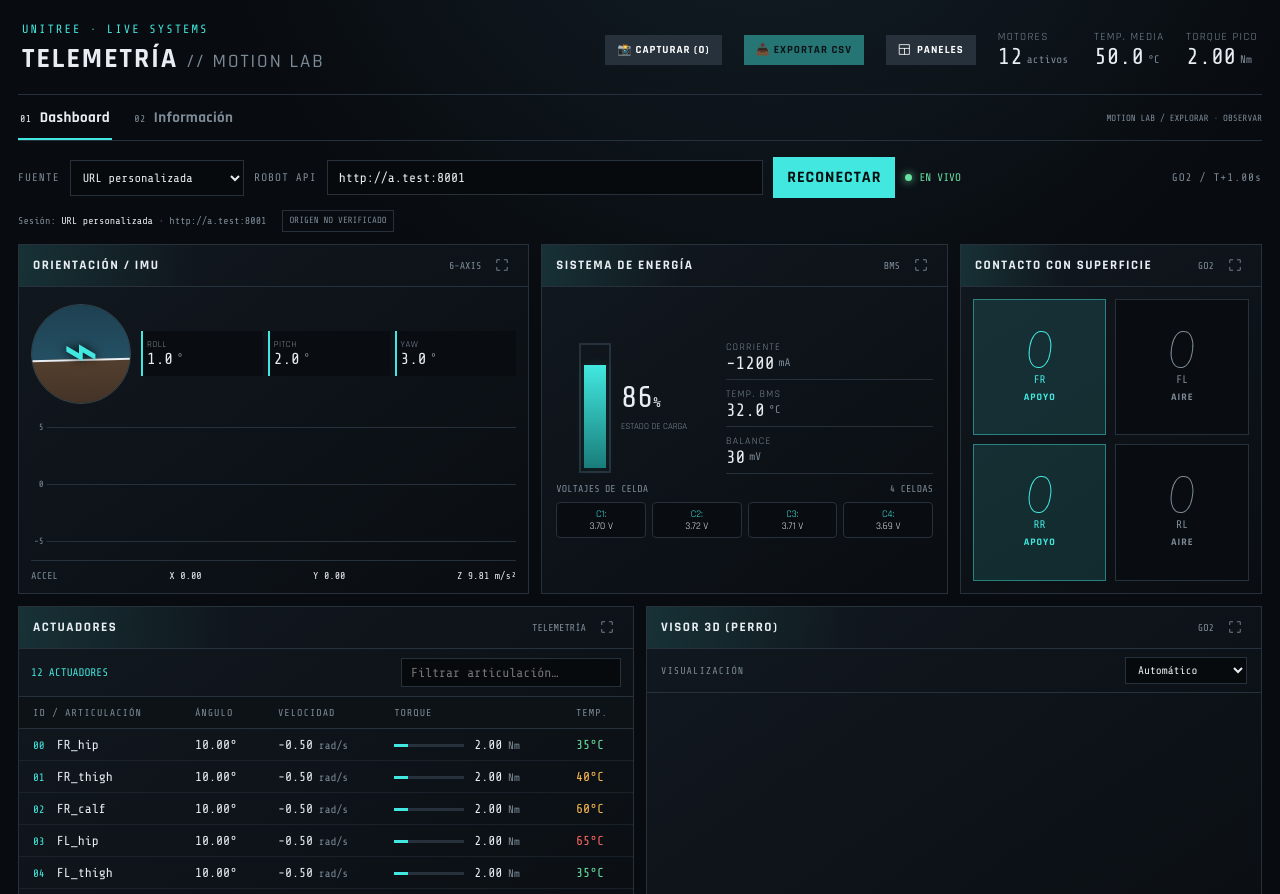
local demo addresses require an explicit choice and do not claim physical data
Select "G1 / Humanoide" in the dropdown named "Fuente de telemetría" at (157, 178), box x1=70 y1=160 x2=244 y2=196
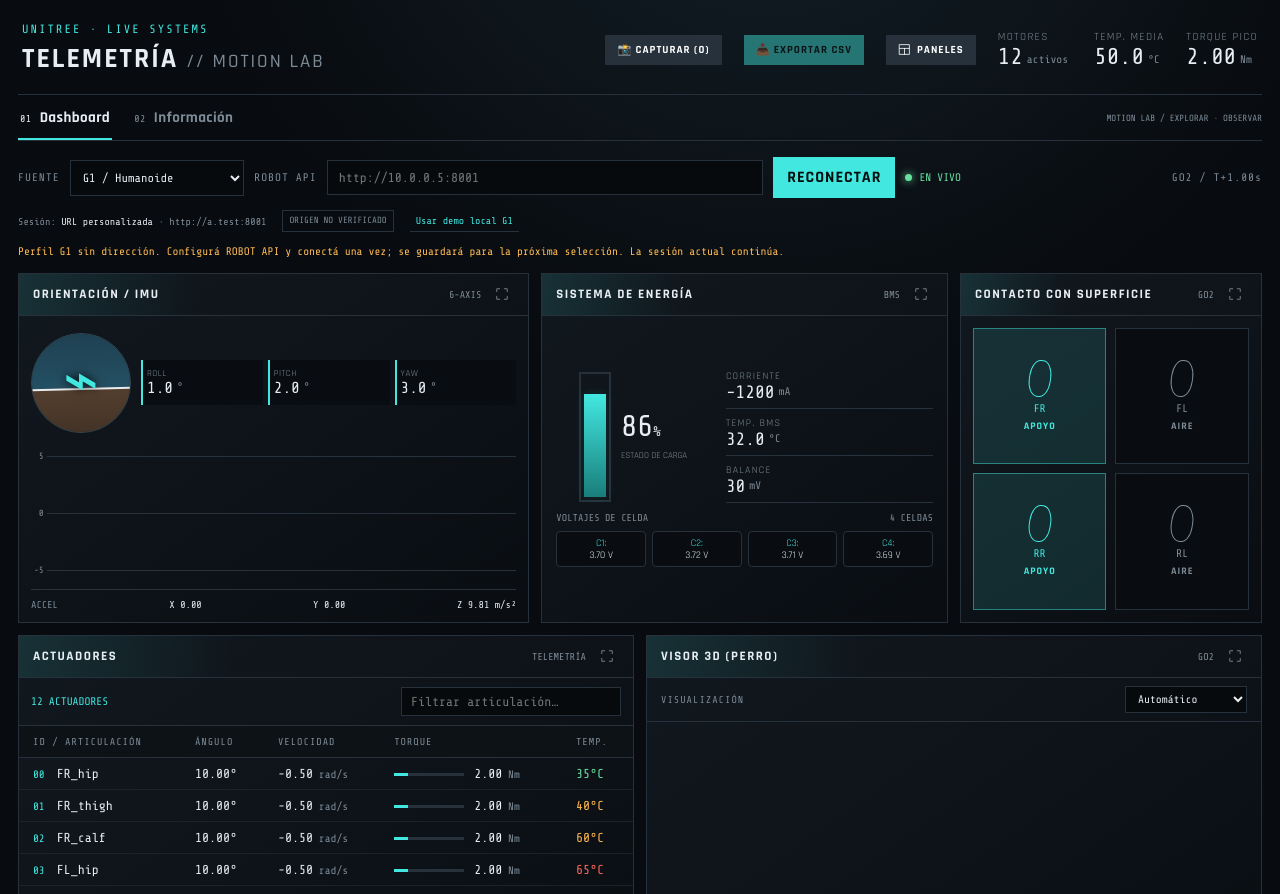
Click the button "Usar demo local G1" at (464, 221), box x1=410 y1=210 x2=519 y2=232
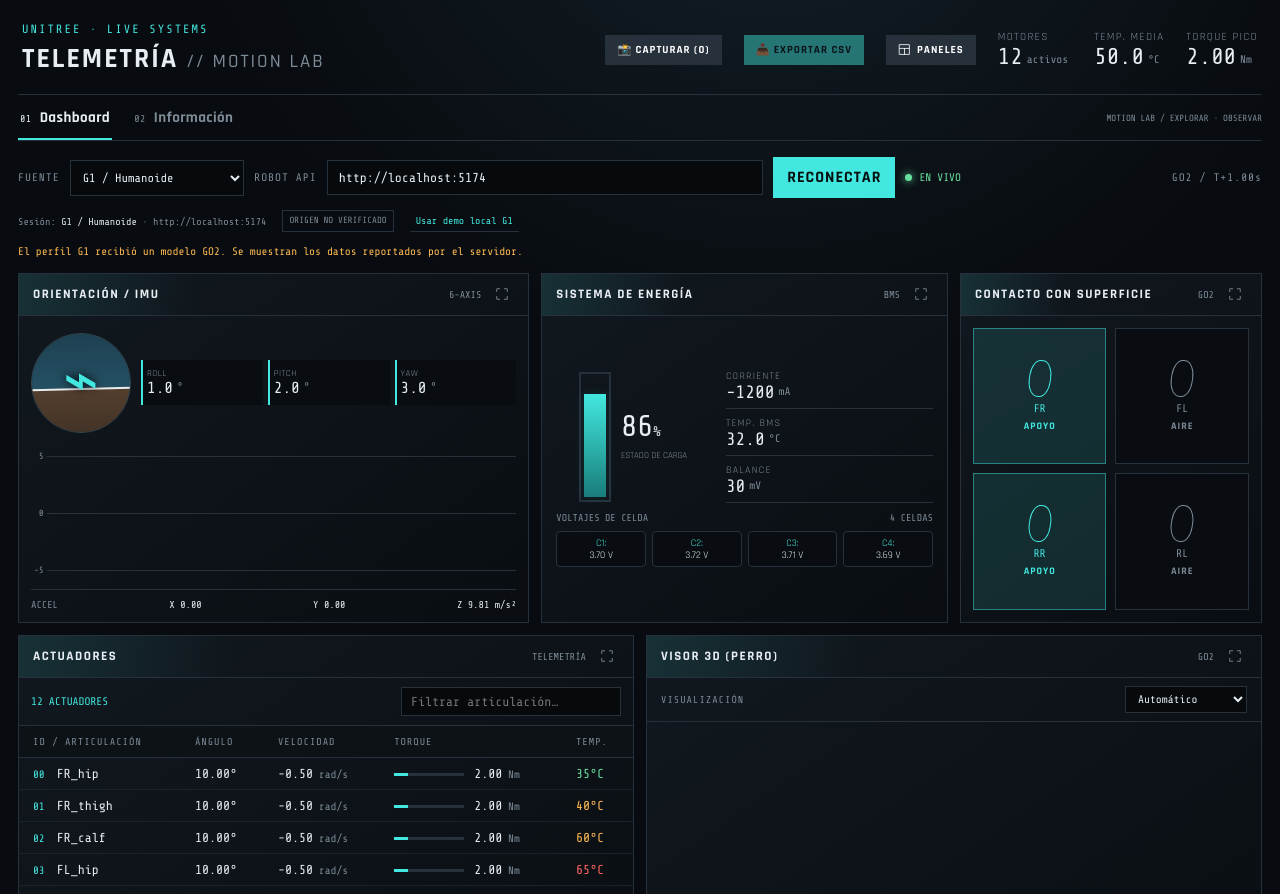
Expected: the text "ORIGEN NO VERIFICADO" is shown, x1=282 y1=210 x2=394 y2=232
Expected: the field labelled "ROBOT API" holds "http://localhost:5174", x1=327 y1=160 x2=763 y2=195
